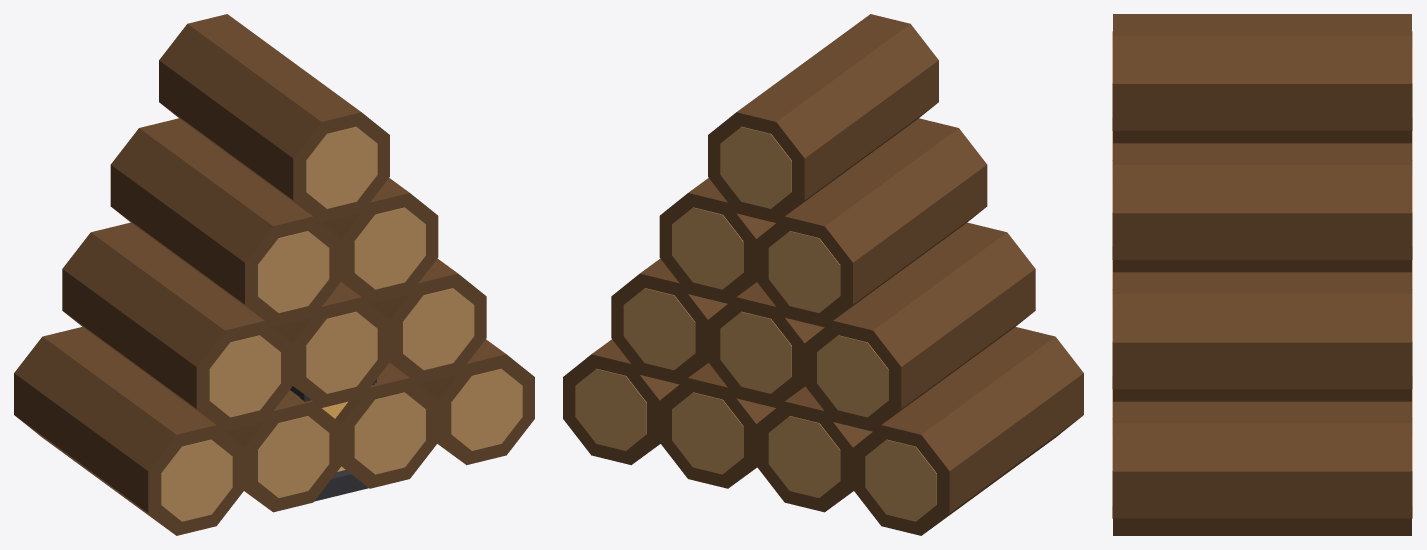
Rendered from w2_campprops.fbx.
3 renders of one model, left to right at view 1: azimuth 30°, elevation 25°; view 2: azimuth 150°, elevation 25°; view 3: azimuth 270°, elevation 25°, orthographic. The views are drawn at different scales.
Visible parts, largest first — view 1: Woodpile.Firewood, Woodpile.FirewoodEnds, WallLantern.Iron; view 2: Woodpile.Firewood, Woodpile.FirewoodEnds; view 3: Woodpile.Firewood, Woodpile.FirewoodEnds.
Part boxes in pixels (x1,y1,x2,y2): Woodpile.Firewood: [14, 14, 534, 535]; Woodpile.FirewoodEnds: [161, 126, 522, 521]; WallLantern.Iron: [290, 379, 376, 501]; Woodpile.Firewood: [563, 14, 1083, 535]; Woodpile.FirewoodEnds: [575, 126, 936, 521]; Woodpile.Firewood: [1113, 14, 1411, 535]; Woodpile.FirewoodEnds: [1112, 31, 1412, 518].
Size of the model in its own units: 2.66 by 2.49 by 1.61.
